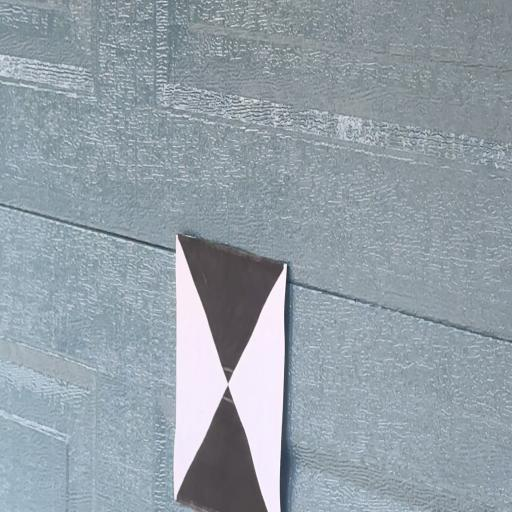target: (173, 235, 287, 511)
